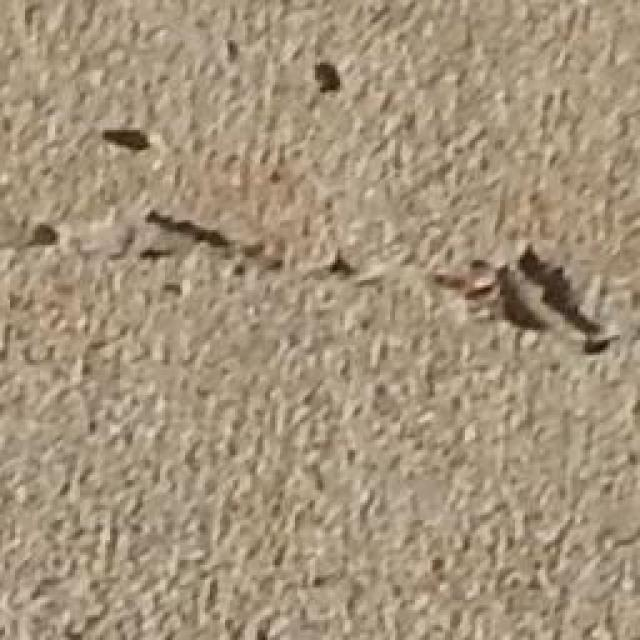concrete-crack: (518, 250, 605, 352), (430, 260, 548, 332), (145, 212, 230, 250), (102, 130, 150, 148), (330, 255, 358, 275), (32, 225, 58, 245), (318, 65, 338, 90)
